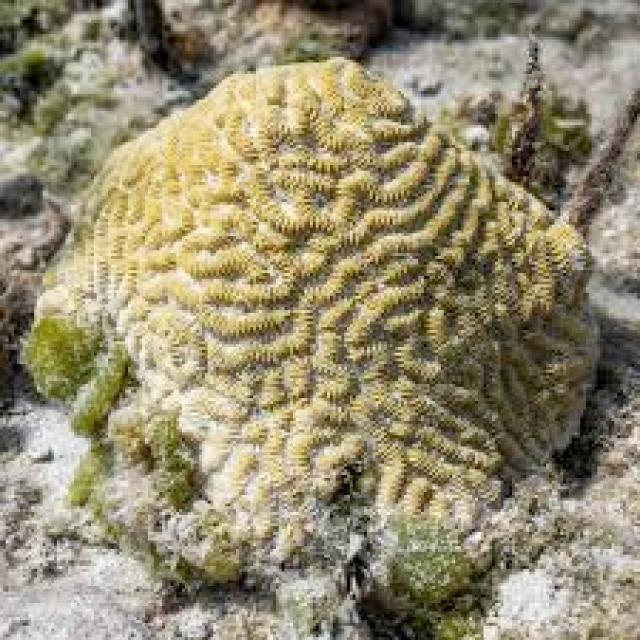Coral: (76, 58, 601, 568)
